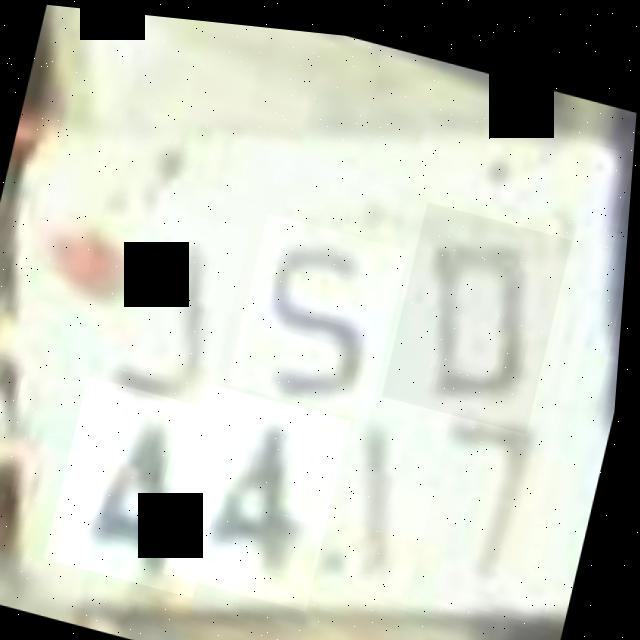1: (313, 374, 459, 614)
4: (168, 375, 358, 606), (52, 371, 244, 595)
7: (398, 374, 574, 613)
J: (69, 188, 256, 422)
O: (386, 190, 576, 425)
S: (231, 205, 413, 415)
